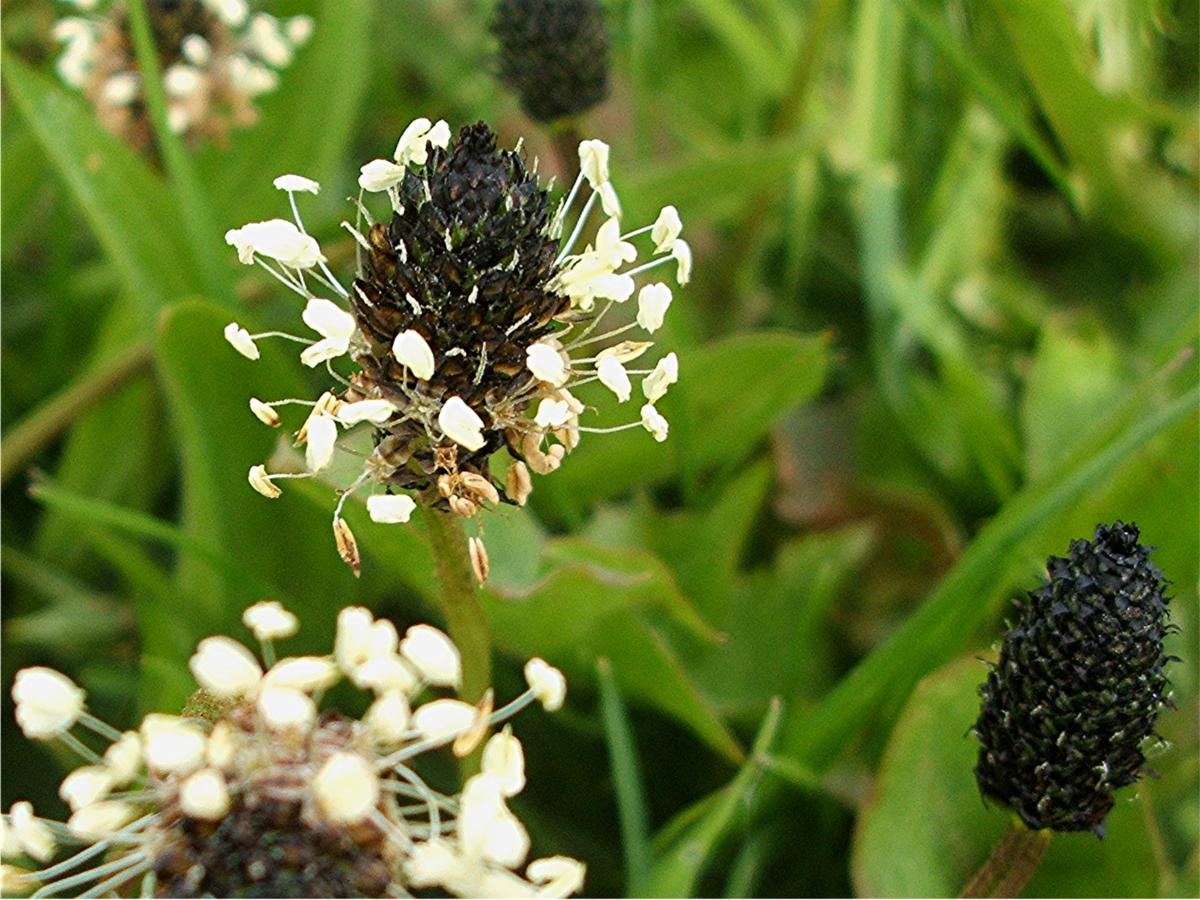buckhorn plantain: (272, 94, 716, 587), (22, 577, 594, 900)
